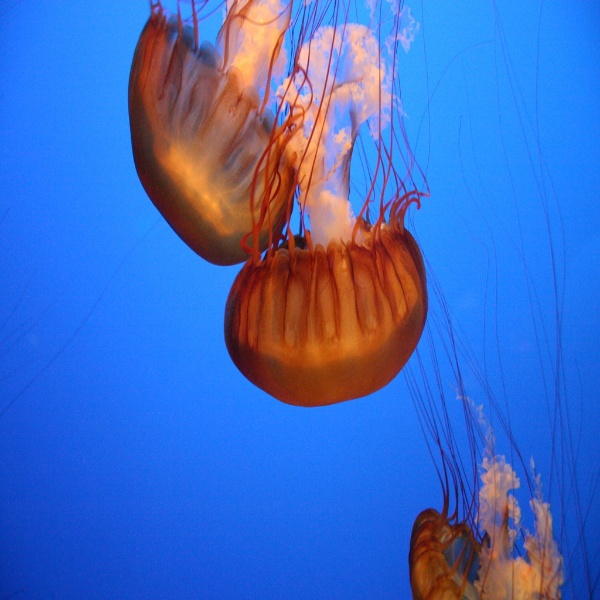Jellyfish: (408, 0, 599, 599), (220, 0, 431, 407), (129, 0, 324, 271)
